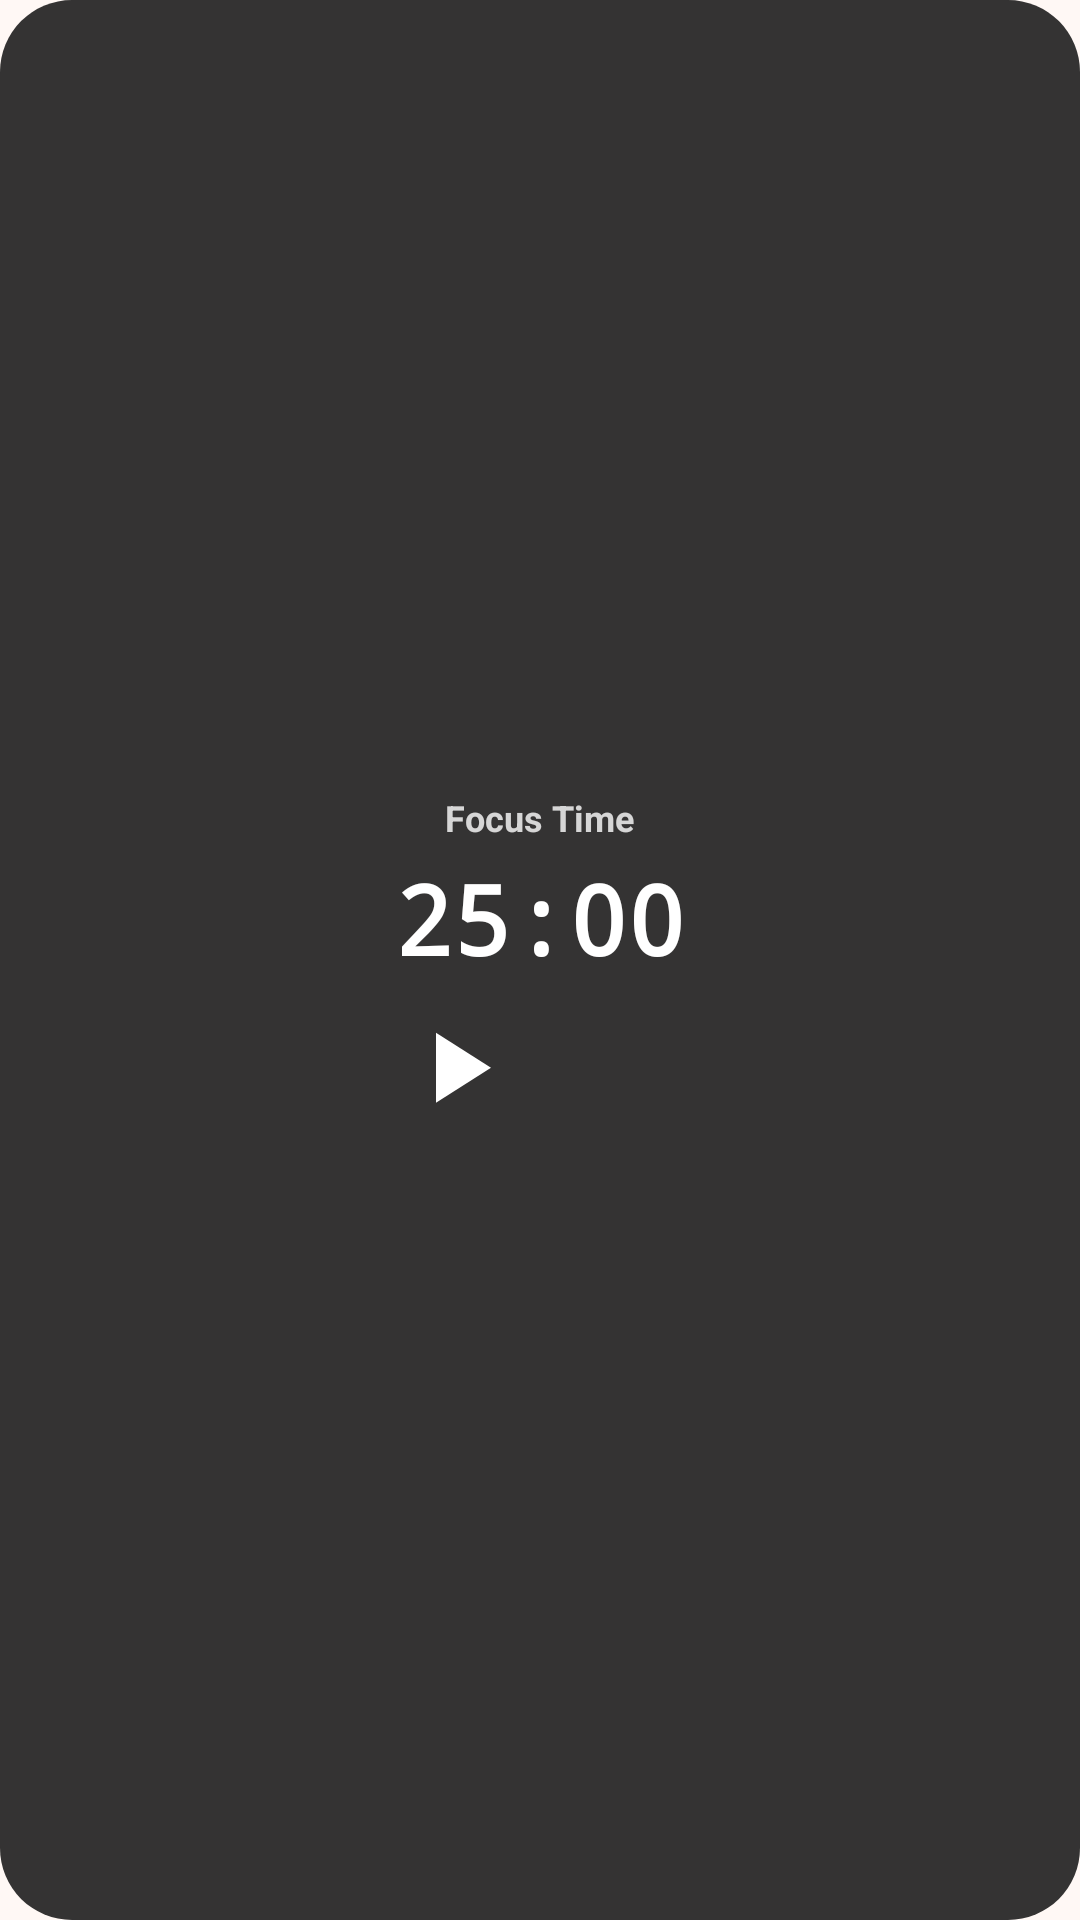

Icon bounding boxes for this 1080w x 1920h phone screenshot, format (x1,y1,x2,y2):
Start or pause timer: (436,1033,491,1103)
